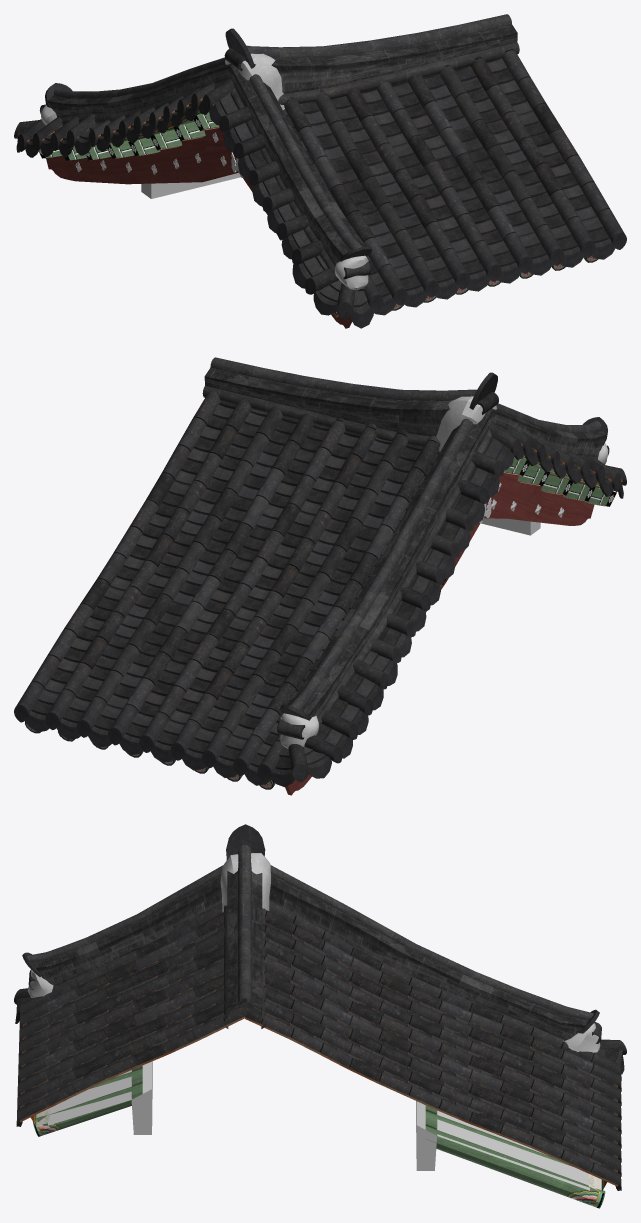
File: SM_Giwa07A.fbx
3 views of the same model, one above another, from view 1: azimuth 30°, elevation 25°; view 2: azimuth 150°, elevation 25°; view 3: azimuth 270°, elevation 25° (orthographic). The views are drawn at different scales.
Parts seen in each view (by area): view 1: SM_Giwa07A; view 2: SM_Giwa07A; view 3: SM_Giwa07A.
Boxes of the visible parts, box(x1,y1,x2,y2) form: SM_Giwa07A: box(14, 14, 626, 328); SM_Giwa07A: box(14, 357, 626, 795); SM_Giwa07A: box(14, 824, 626, 1208).
Size of the model in its own units: 303 by 562 by 267.
